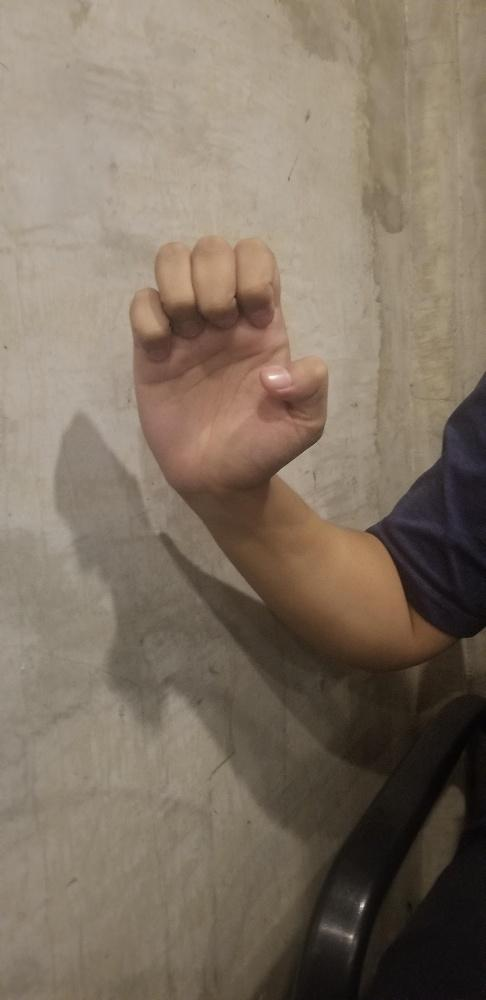e: (129, 231, 329, 485)
